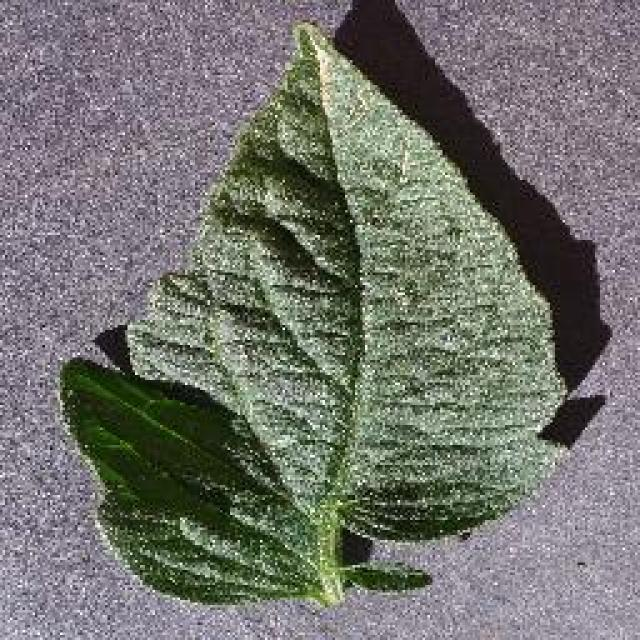Tomato___healthy: (51, 20, 578, 603)
